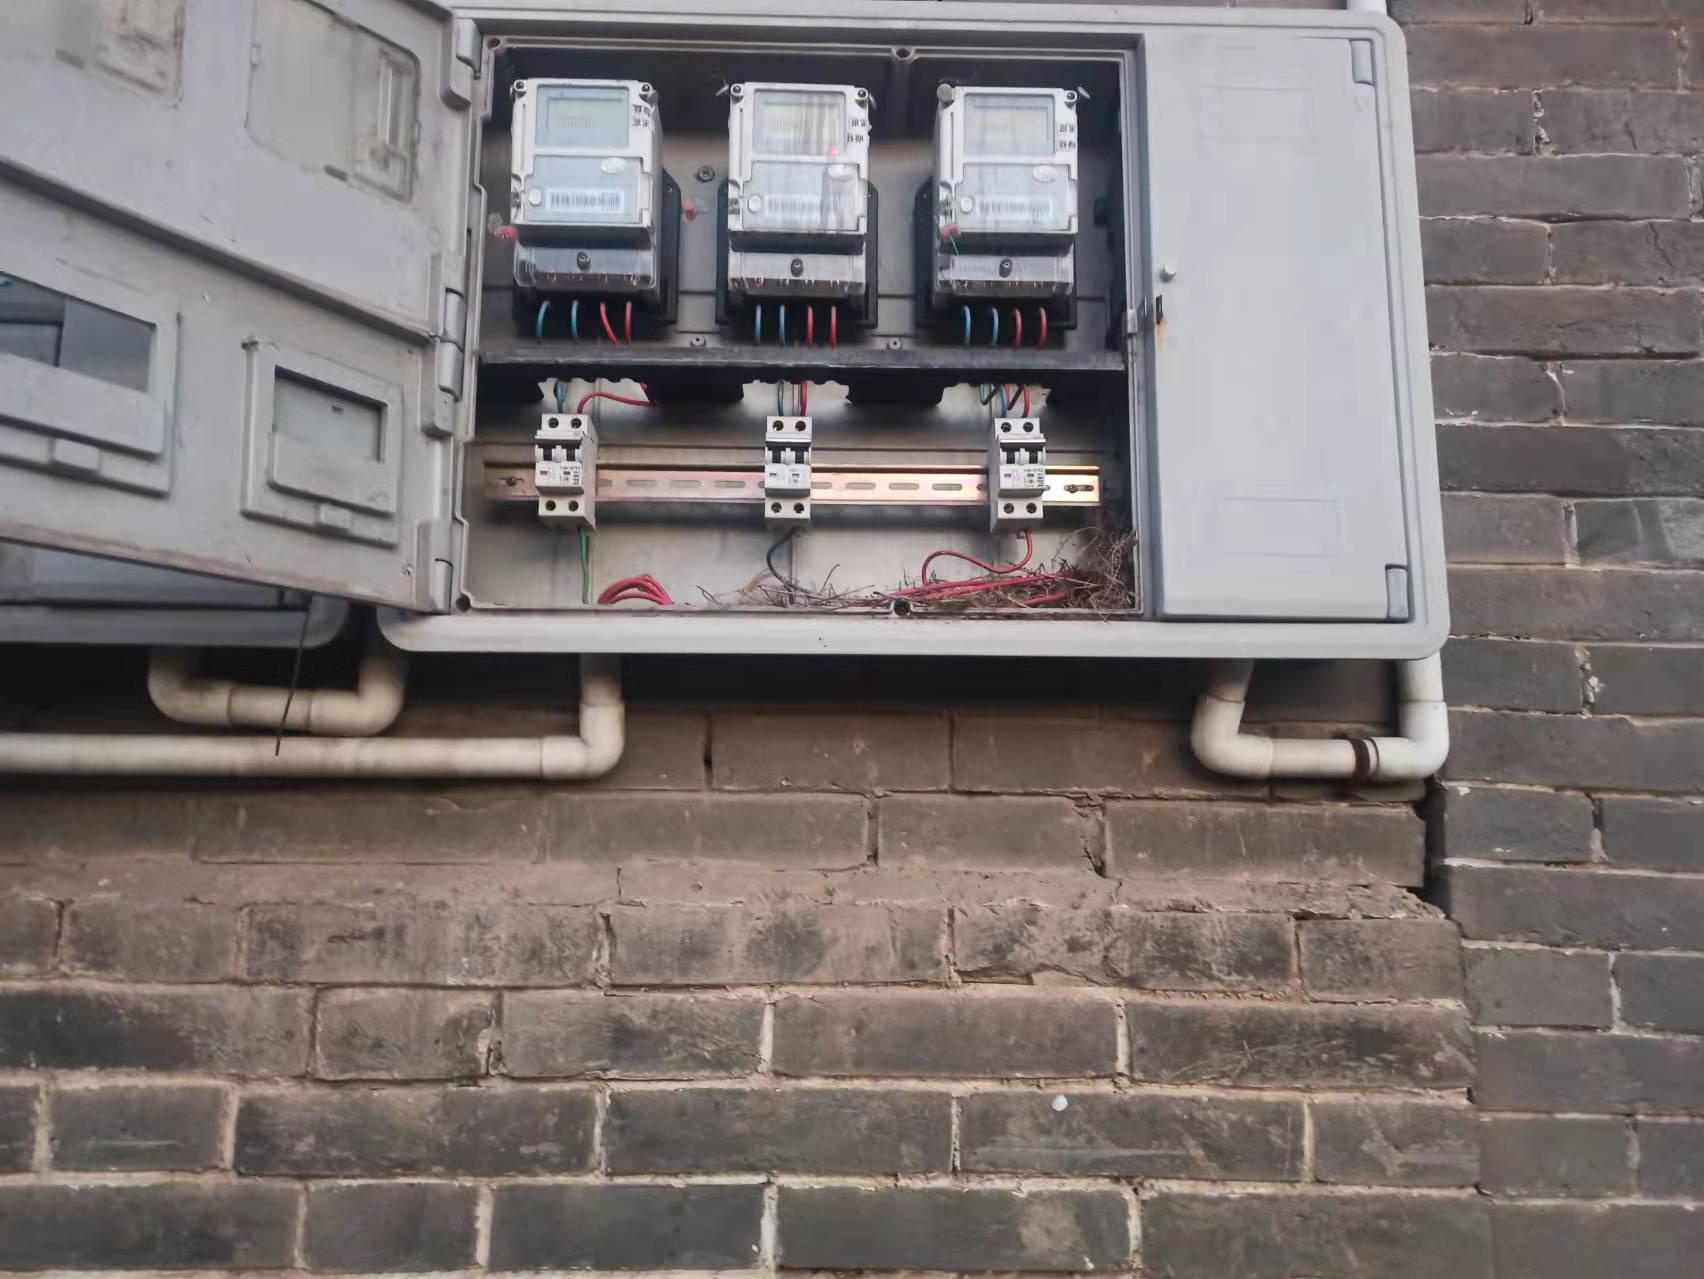digital: (512, 77, 657, 232), (933, 87, 1076, 236), (729, 81, 863, 234)
